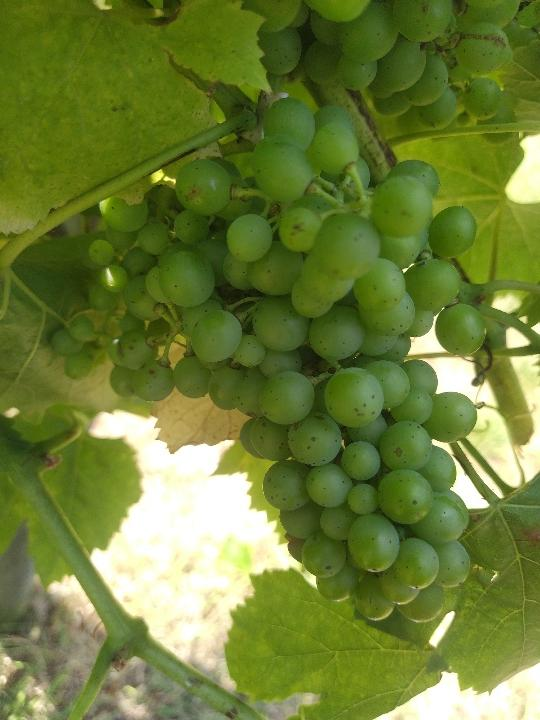grape: (48, 95, 489, 630)
